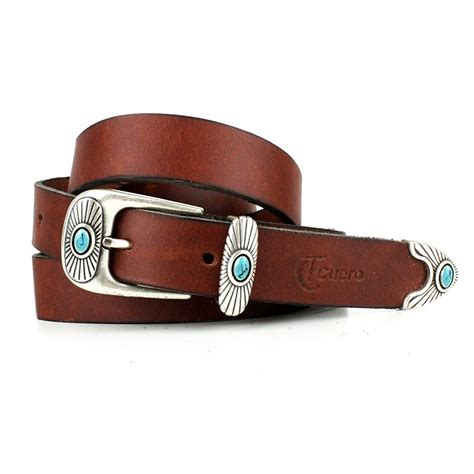cuero: (27, 112, 428, 326)
